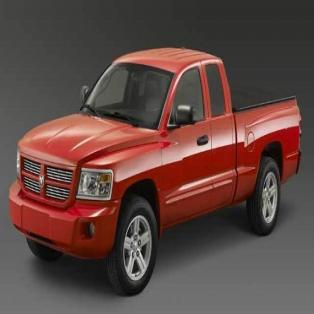Auto: (9, 47, 302, 294)
